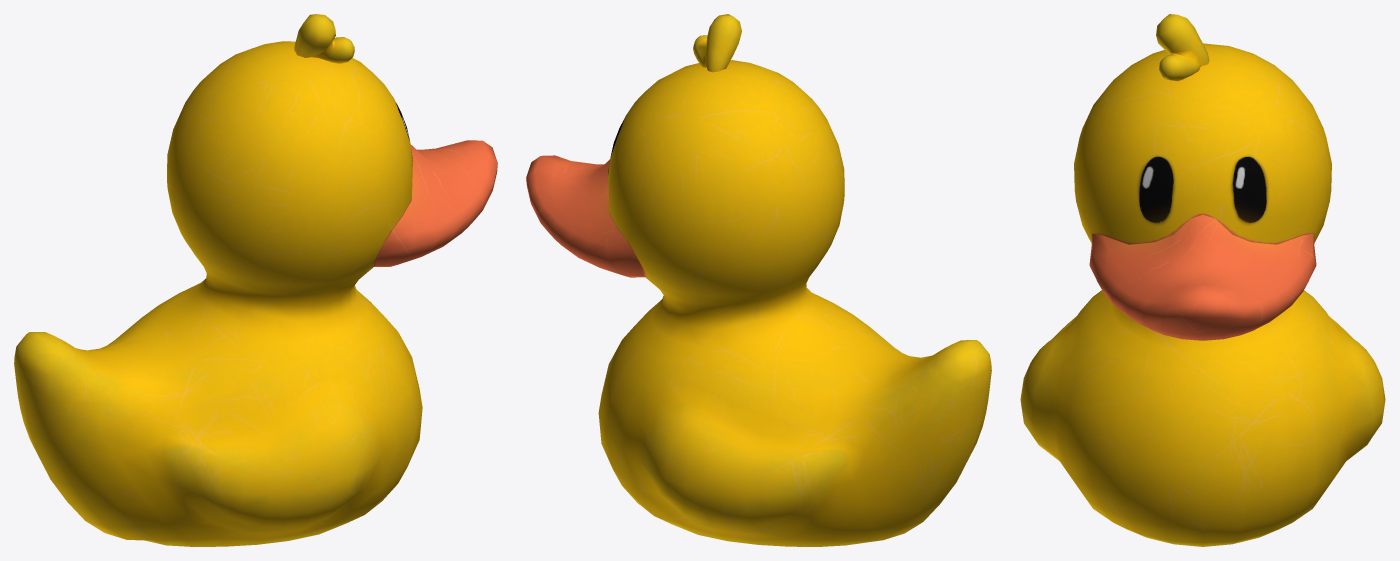
The model's file is duck.gltf.
The picture shows the model from 3 angles, left to right: view 1: azimuth 30°, elevation 25°; view 2: azimuth 150°, elevation 25°; view 3: azimuth 270°, elevation 25°; orthographic projection. The views are drawn at different scales.
Parts seen in each view (by area): view 1: Object_2; view 2: Object_2; view 3: Object_2.
Part boxes in pixels (left/top/right/bottom): Object_2: left=14, top=14, right=497, bottom=546; Object_2: left=526, top=14, right=991, bottom=546; Object_2: left=1020, top=14, right=1385, bottom=546.
Bounding box in the file's own units: 0.3328 × 0.3289 × 0.2151.
1 material, 1 textured.
